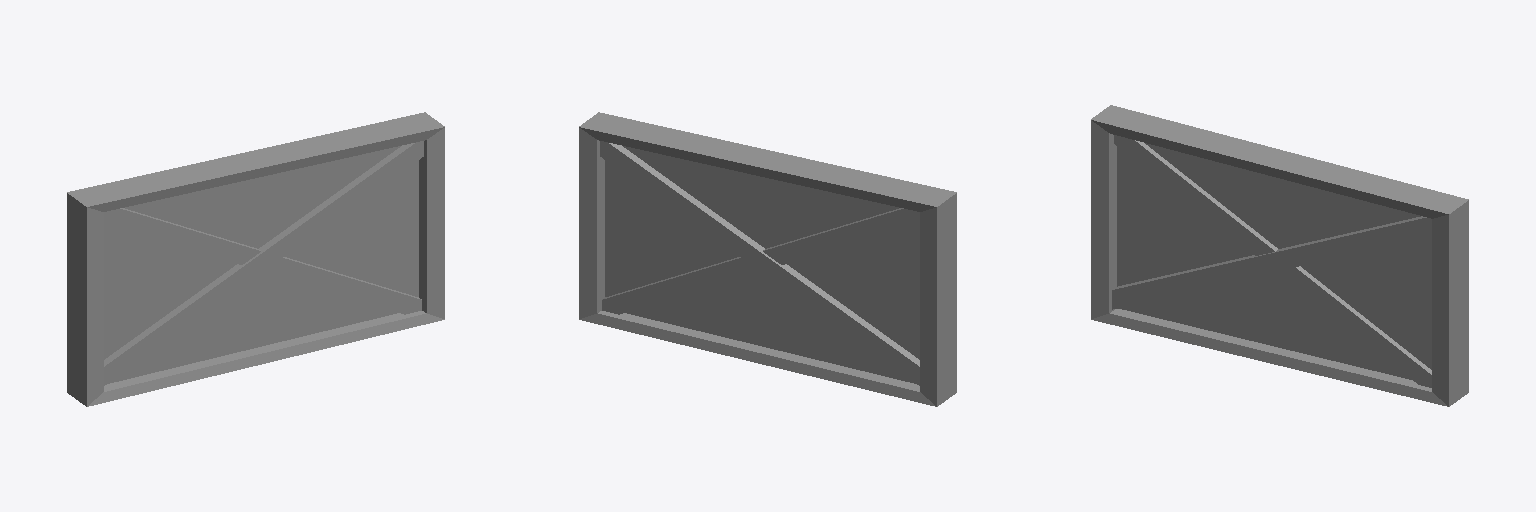
File: Gate.obj
3 views of the same model, side by side, from view 1: azimuth 30°, elevation 25°; view 2: azimuth 150°, elevation 25°; view 3: azimuth 330°, elevation 25° (orthographic).
Visible parts, largest first — view 1: Cube; view 2: Cube; view 3: Cube.
Part boxes in pixels (x1,y1,x2,y2): Cube: (67, 112, 444, 406); Cube: (579, 112, 956, 406); Cube: (1091, 105, 1468, 406).
Size of the model in its own units: 2.05 by 1.09 by 0.2.